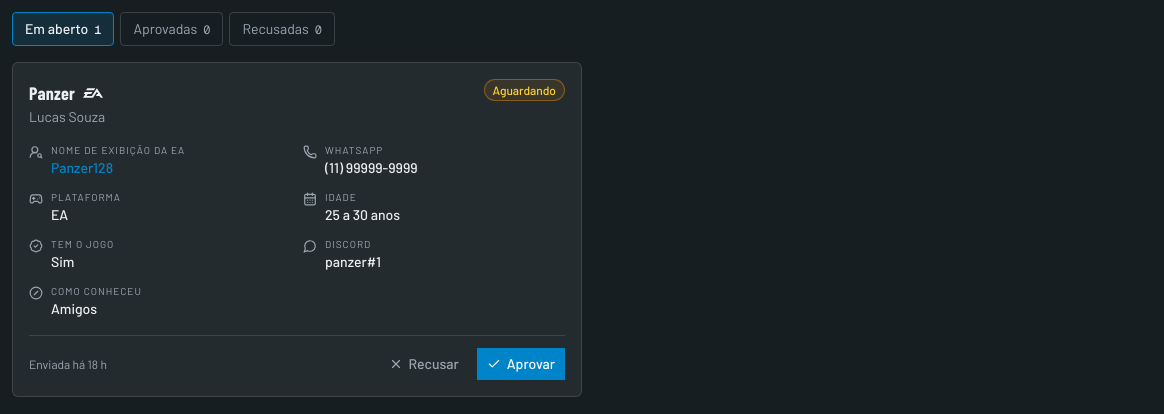
it: RecruitsList — filtro › says which tab is empty instead of claiming there is nothing at all
Click the tab "Recusadas0".
click(282, 29)  # box [230, 12, 335, 46]
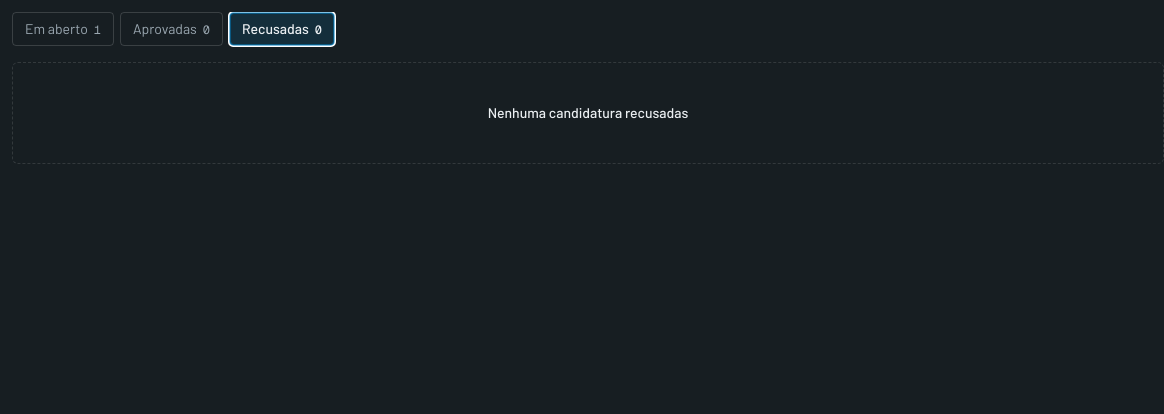
Now the text "Nenhuma candidatura recusadas" is shown, box [488, 104, 688, 121]
